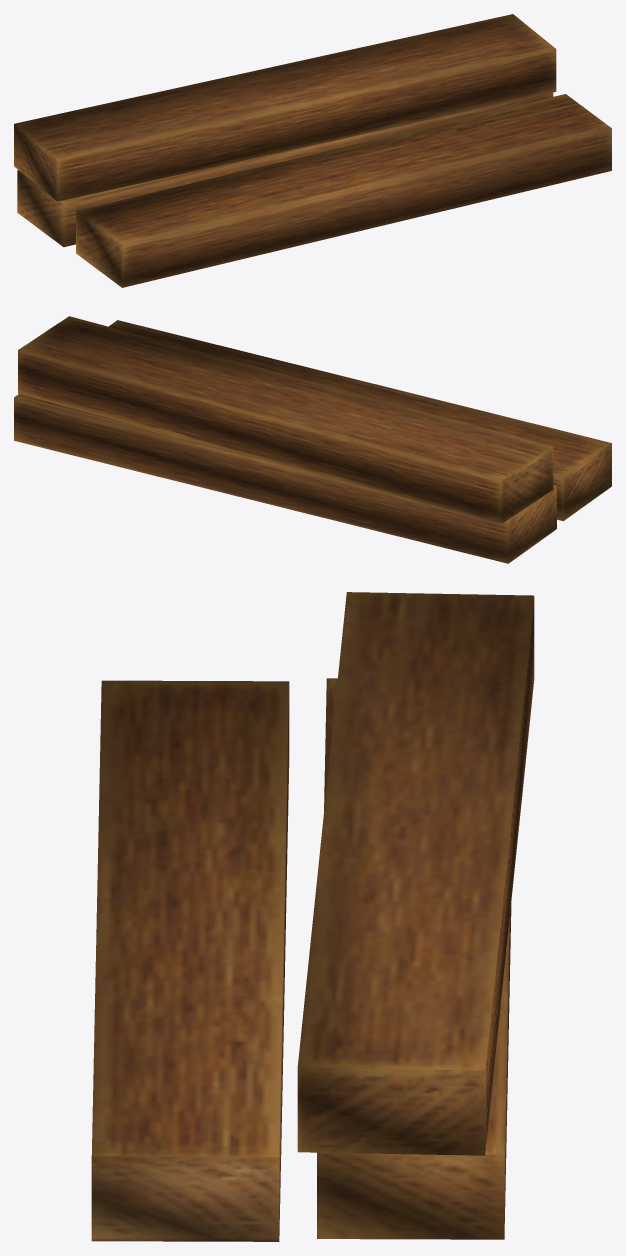
The model's file is deadminelumberpilesmall.glb.
The picture shows the model from 3 angles, top to bottom: view 1: azimuth 30°, elevation 25°; view 2: azimuth 150°, elevation 25°; view 3: azimuth 270°, elevation 25°; orthographic projection. The views are drawn at different scales.
Size of the model in its own units: 3.36 by 0.5556 by 1.31.
1 material, 1 textured.
